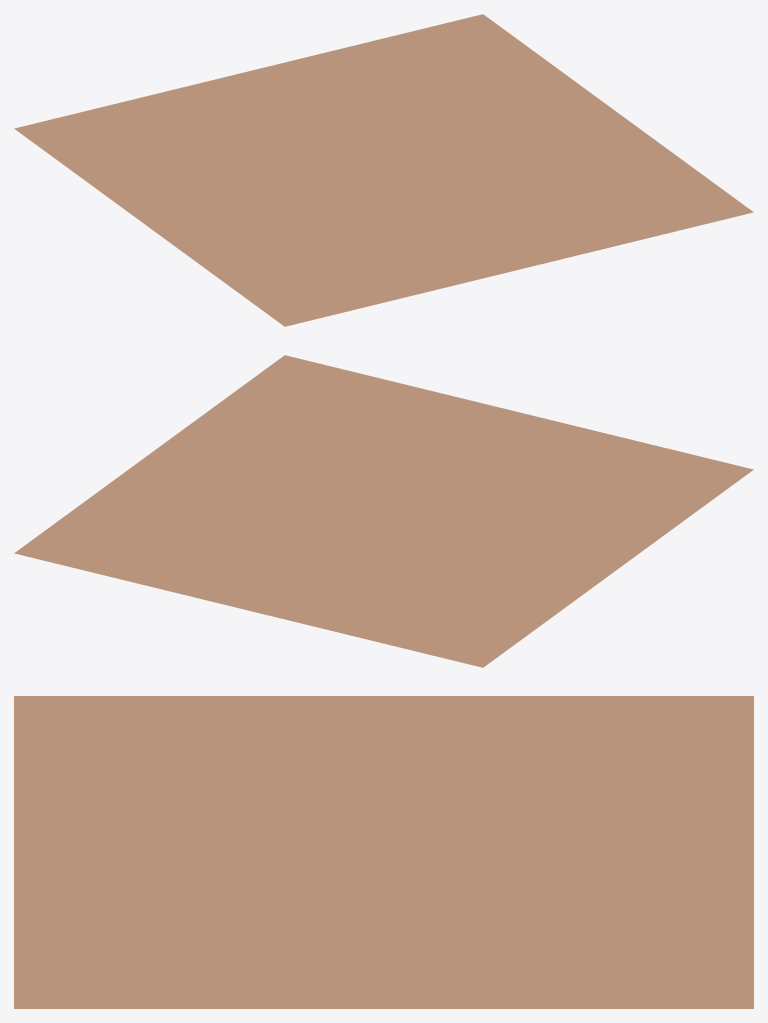
The model's file is ground_pathOpen.glb.
The picture shows the model from 3 angles, top to bottom: view 1: azimuth 30°, elevation 25°; view 2: azimuth 150°, elevation 25°; view 3: azimuth 270°, elevation 25°; orthographic projection. The views are drawn at different scales.
Parts seen in each view (by area): view 1: ground_pathOpen; view 2: ground_pathOpen; view 3: ground_pathOpen.
Boxes of the visible parts, x1=… form: ground_pathOpen: x1=14, y1=14, x2=753, y2=326; ground_pathOpen: x1=14, y1=355, x2=753, y2=667; ground_pathOpen: x1=14, y1=696, x2=753, y2=1008.
Bounding box in the file's own units: 1 × 0 × 1.
